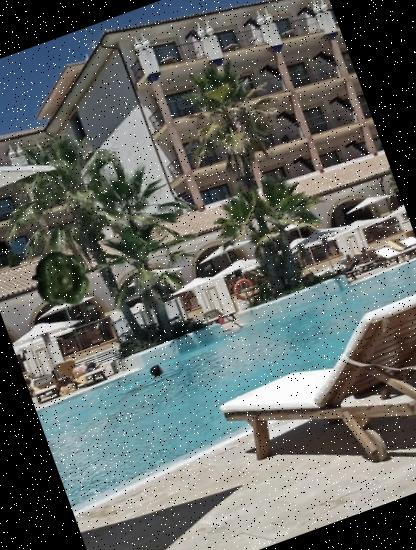Pepper: (23, 240, 100, 317)
